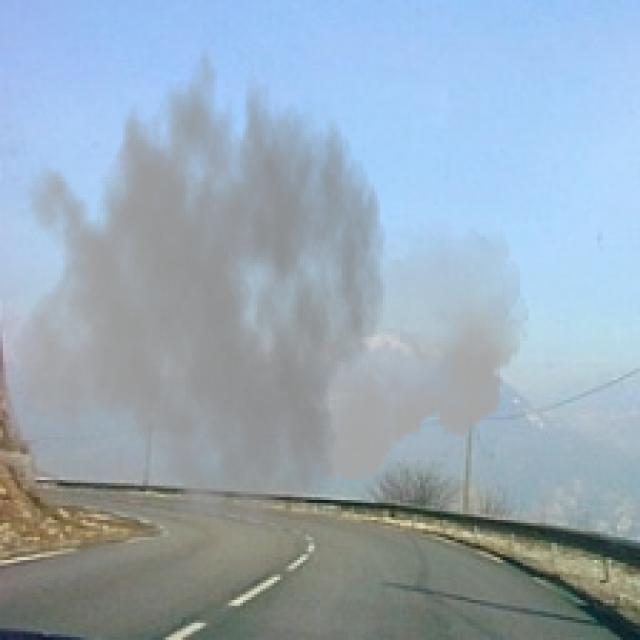Smoke: (11, 22, 528, 548)
